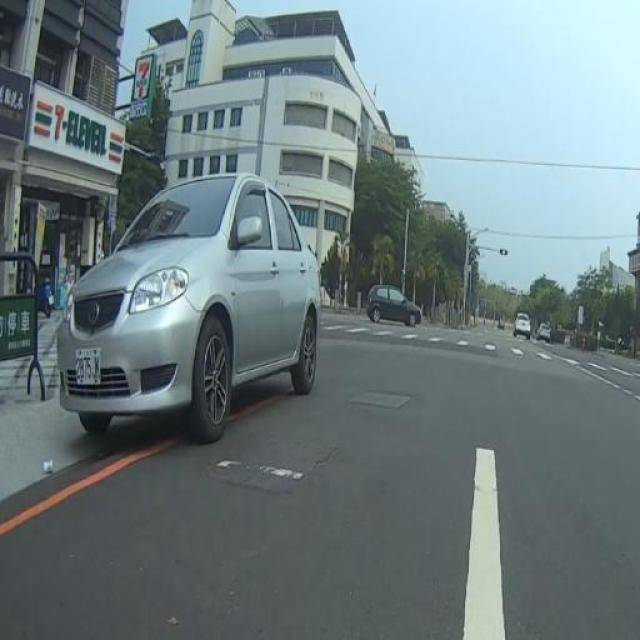illegalparking: (27, 152, 355, 466)
